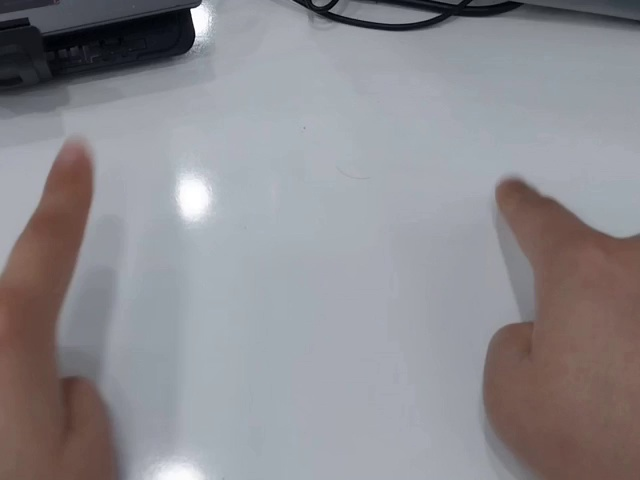fingers: (45, 139, 95, 198), (494, 178, 541, 225)
